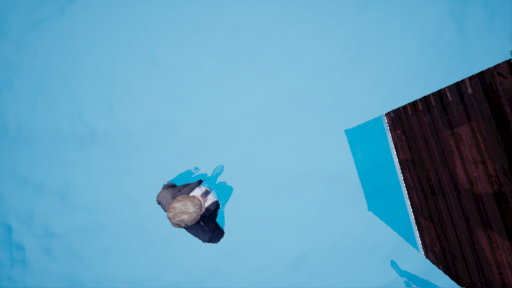person: (152, 162, 231, 246)
